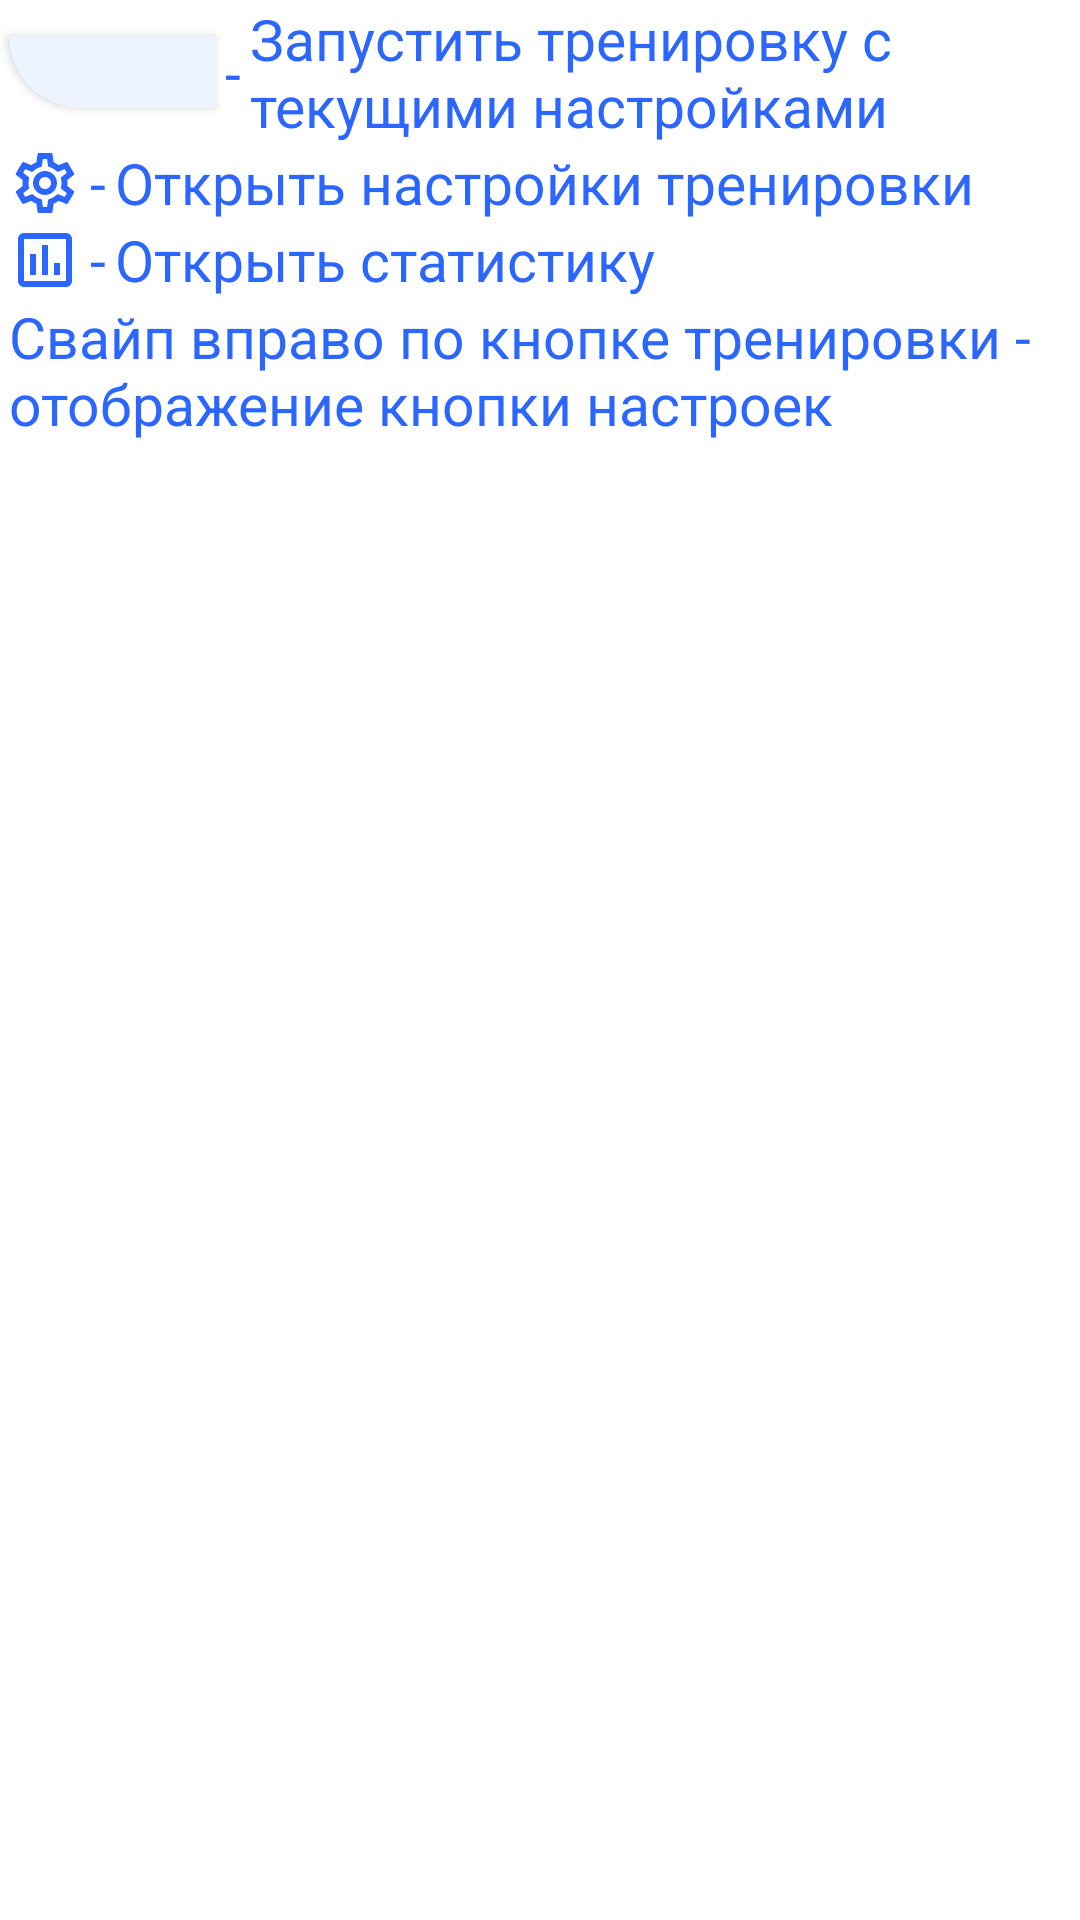

Named icons in this screenshot (1080×1920) and their centers, point (x, y):
assessment: point (45, 260)
settings: point (44, 183)
